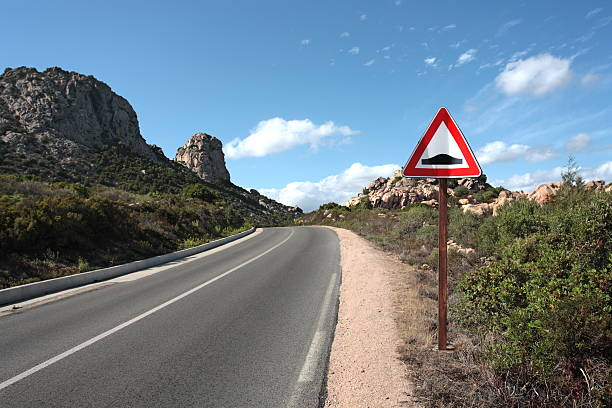speed-breaker: (402, 108, 480, 176)
